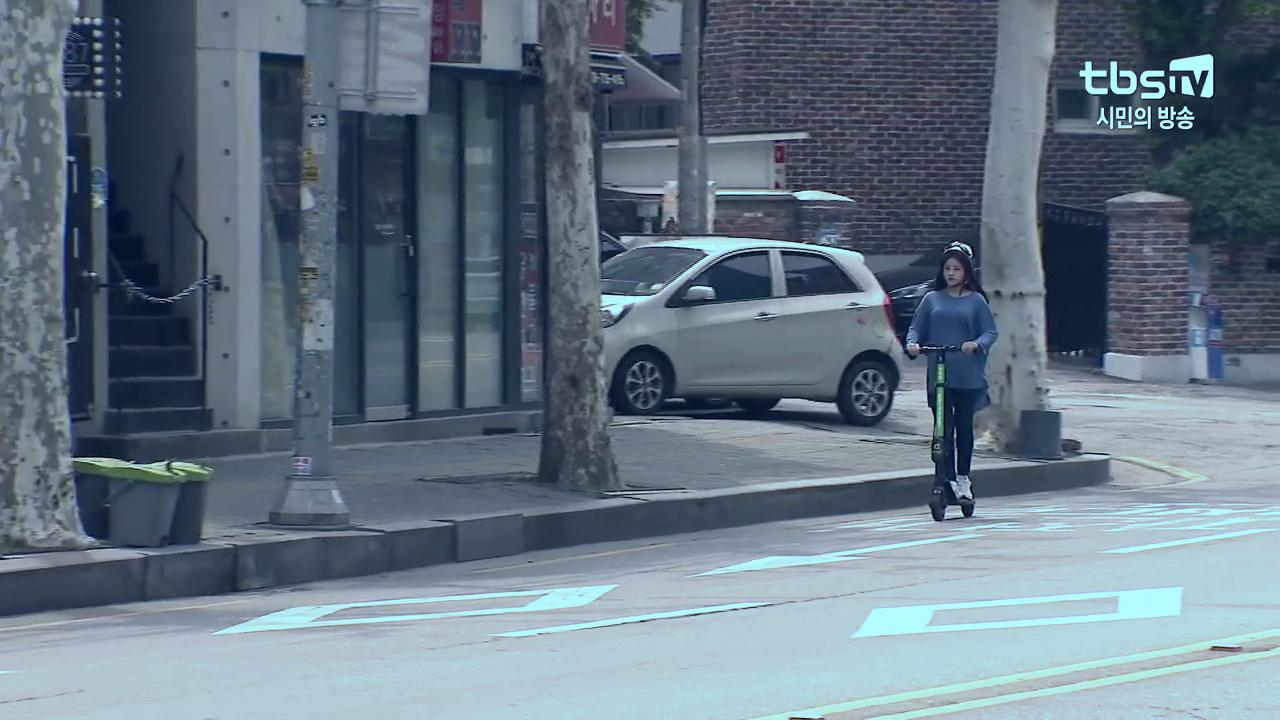helmet: (903, 239, 1001, 523)
